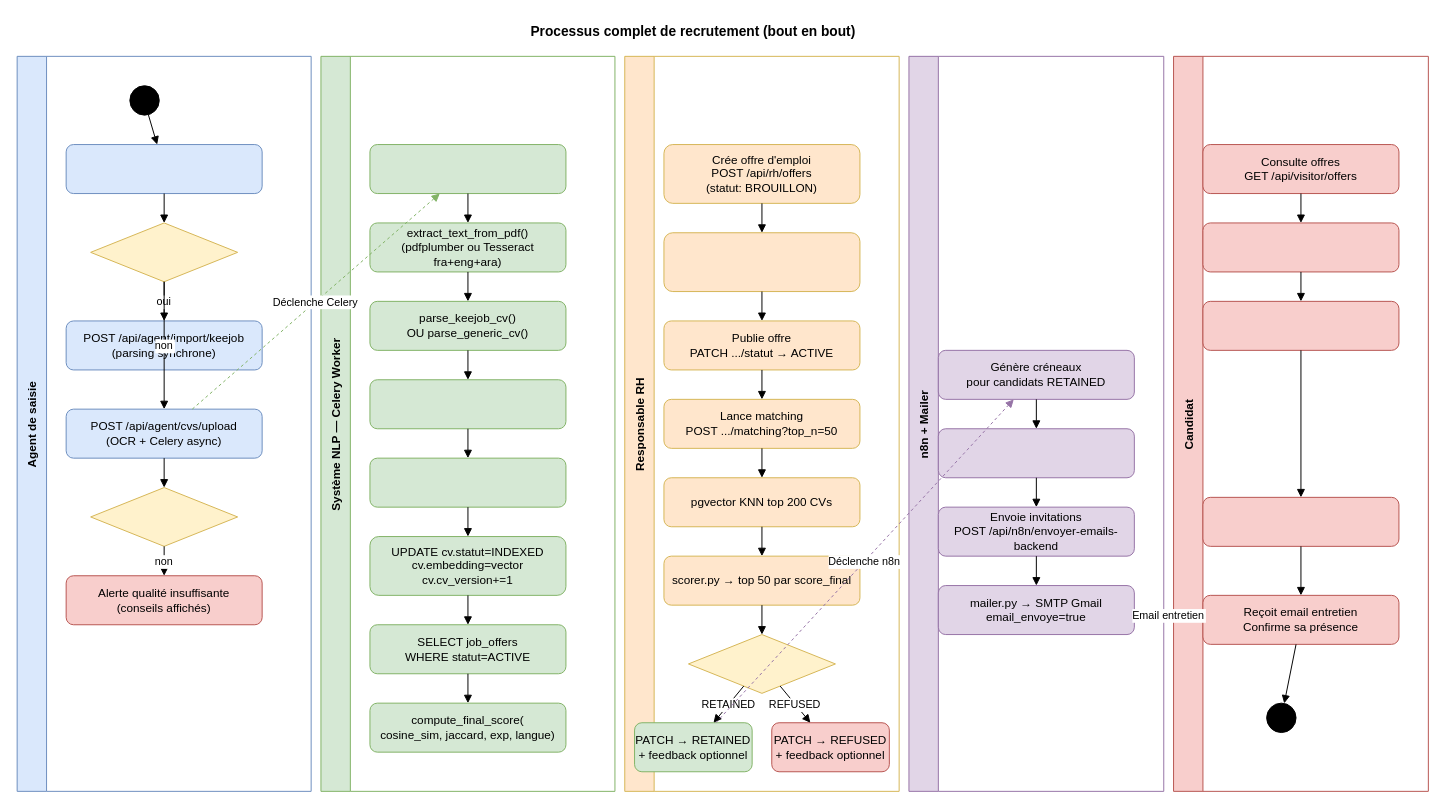
Image size: 1446x809. Some labels were removed from this diagram. Here are the shapes that lost their labels. From the top down, the centre of each, then its label:
(x=163, y=169): Reçoit PDF CV candidat
(x=467, y=169): Tâche process_cv_on_upload(cv_id)
(x=164, y=252): Format Keejob ?
(x=761, y=262): Configure pondérations PUT .../poids (40%+35%+15%+10%=1.0)
(x=1300, y=247): Postule → POST .../apply
(x=1300, y=325): Suit sa timeline GET .../detail (4 étapes)
(x=467, y=404): cv_to_embed_text(cv_entities, cv_text)
(x=1035, y=453): INSERT entretiens statut=PROPOSE
(x=467, y=482): encode(text) → Vector(384) (paraphrase-multilingual-MiniLM-L12-v2)
(x=164, y=516): Score OCR ≥ 40 ?
(x=1300, y=521): Reçoit feedback (si feedback_visible=true)
(x=761, y=663): Décision ?
